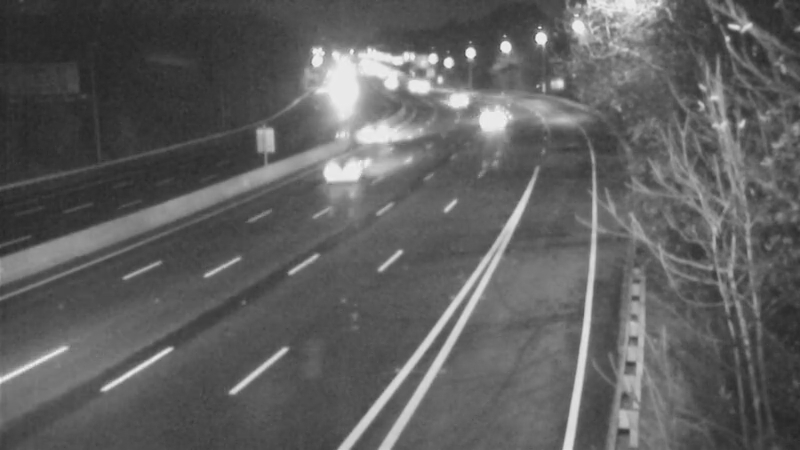vehicle: (312, 130, 392, 210), (428, 73, 478, 123), (461, 94, 511, 144), (360, 110, 410, 160)
